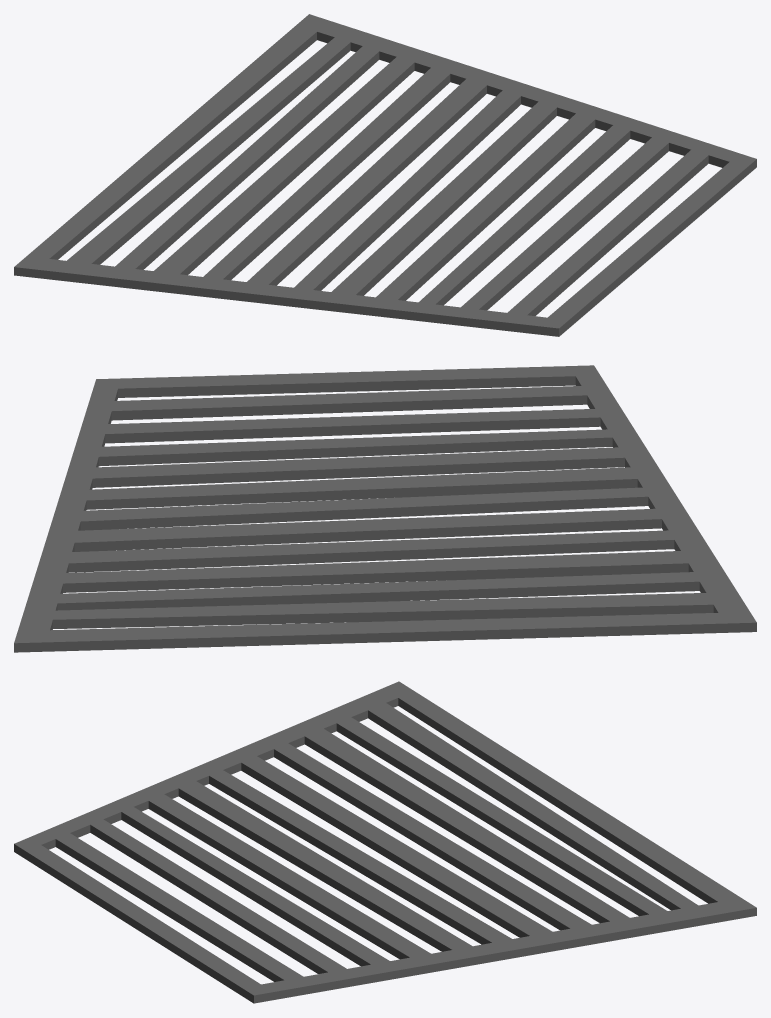
File: Dest_PoisonFactory_PlugHole.FBX
3 views of the same model, one above another, from view 1: azimuth 30°, elevation 25°; view 2: azimuth 150°, elevation 25°; view 3: azimuth 270°, elevation 25° (orthographic). The views are drawn at different scales.
Visible parts, largest first — view 1: Object002; view 2: Object002; view 3: Object002.
Part boxes in pixels (box(x1,y1,x2,y2)): Object002: box(14, 14, 756, 336); Object002: box(14, 365, 756, 652); Object002: box(14, 681, 756, 1003).
Size of the model in its own units: 20.62 by 0.2568 by 20.59.
